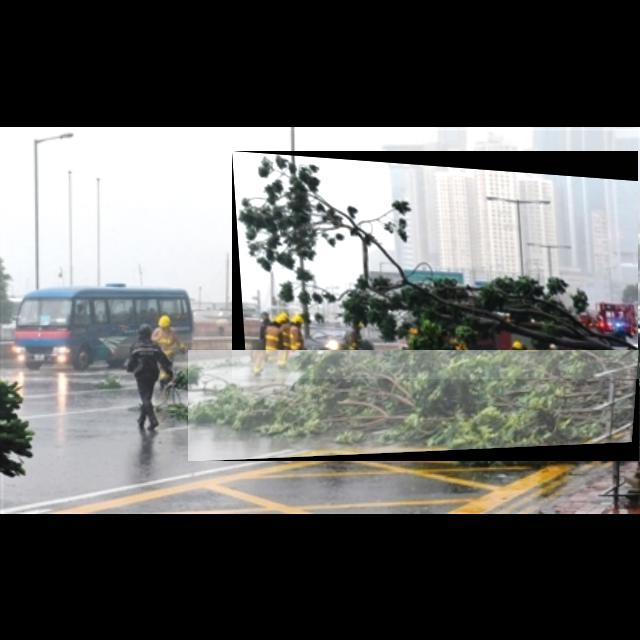fallen_tree: (232, 151, 639, 379), (188, 350, 640, 462)
